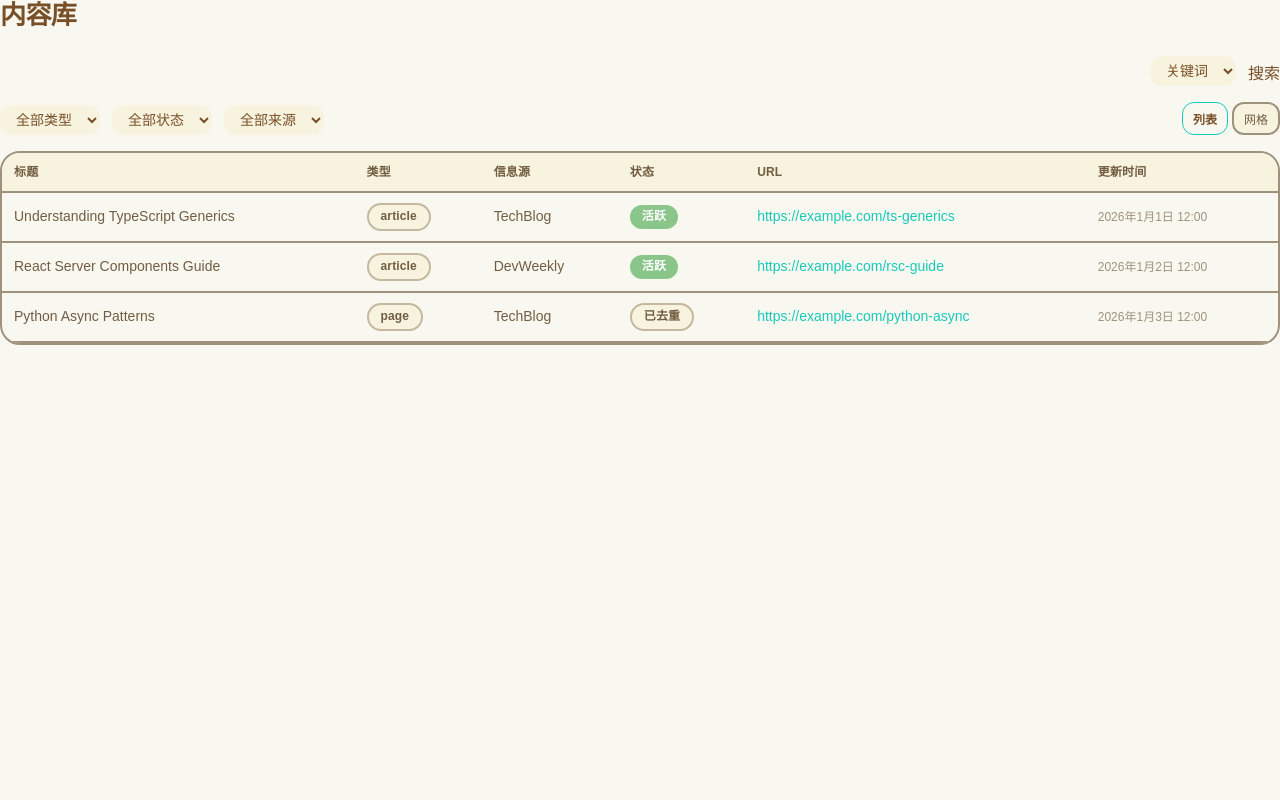
ContentLibraryPage - content detail modal › closes modal when close button is clicked
This screenshot has width=1280, height=800.
Check: the table with test id "content-table" is shown, box left=2, top=153, right=1278, bottom=343
Click the text "Understanding TypeScript Generics" at (124, 216), box left=14, top=208, right=235, bottom=224
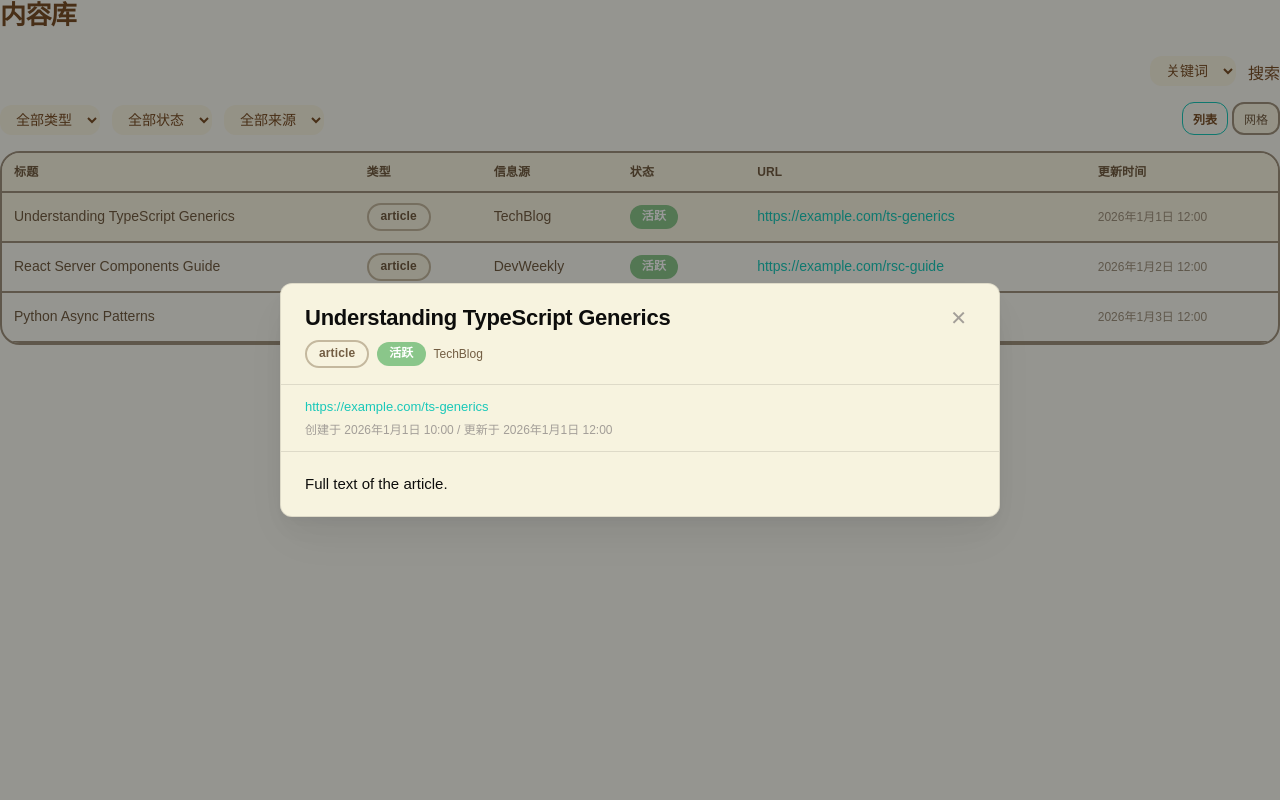
Check: the dialog with test id "content-detail-modal" is shown, box left=280, top=283, right=1000, bottom=517
Click the button with test id "close-content-detail-button" at (959, 318), box left=942, top=304, right=975, bottom=332
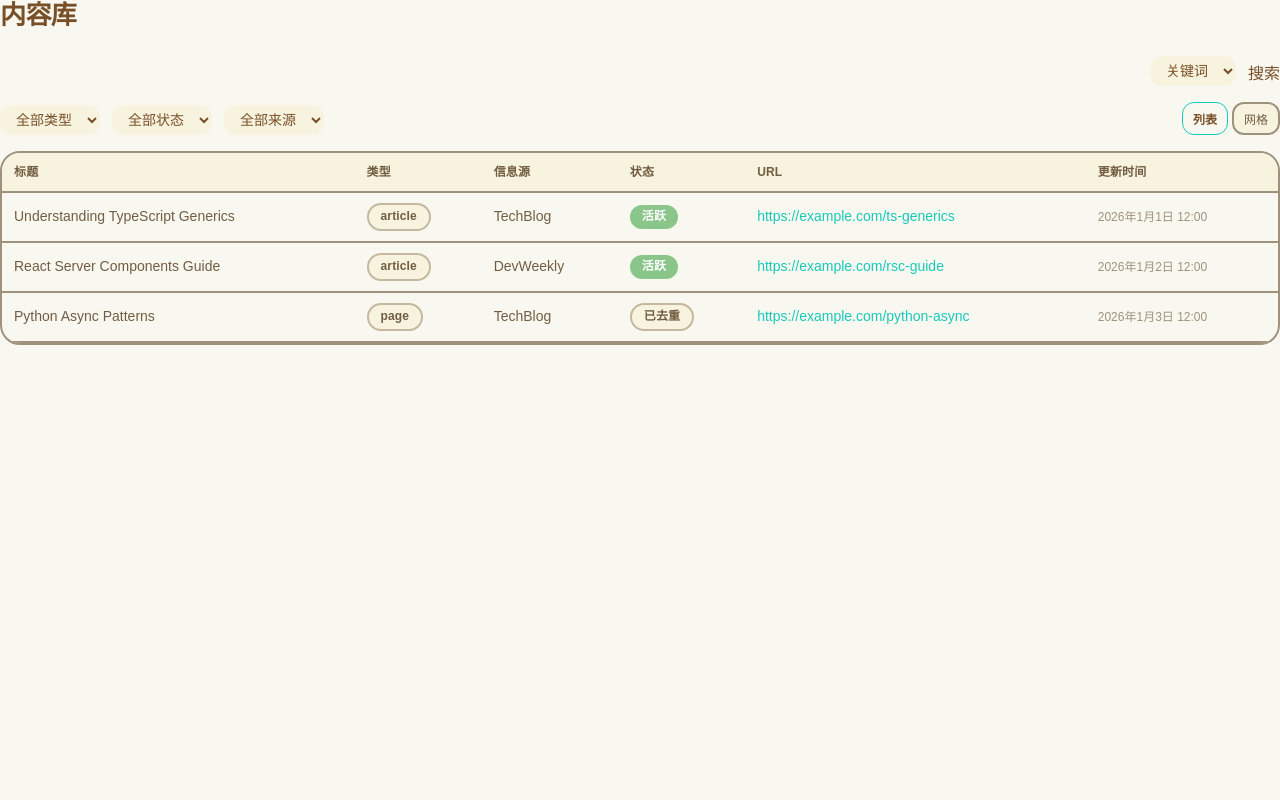
Check: the dialog with test id "content-detail-modal" is gone
